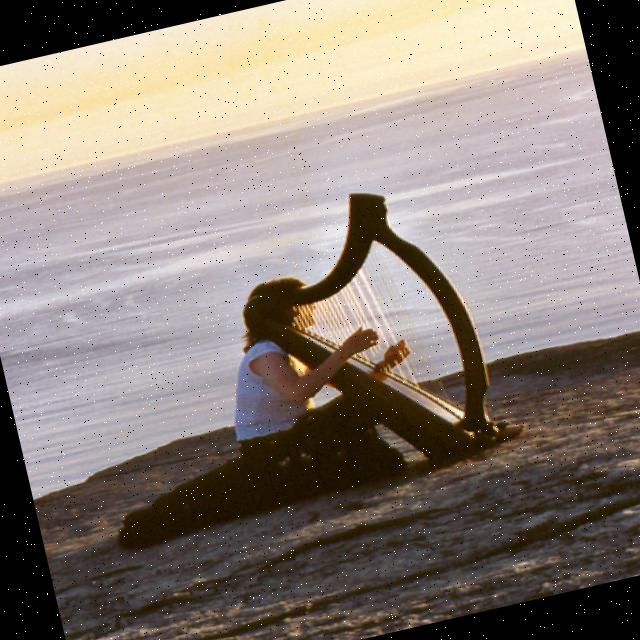harp: (216, 162, 534, 508)
